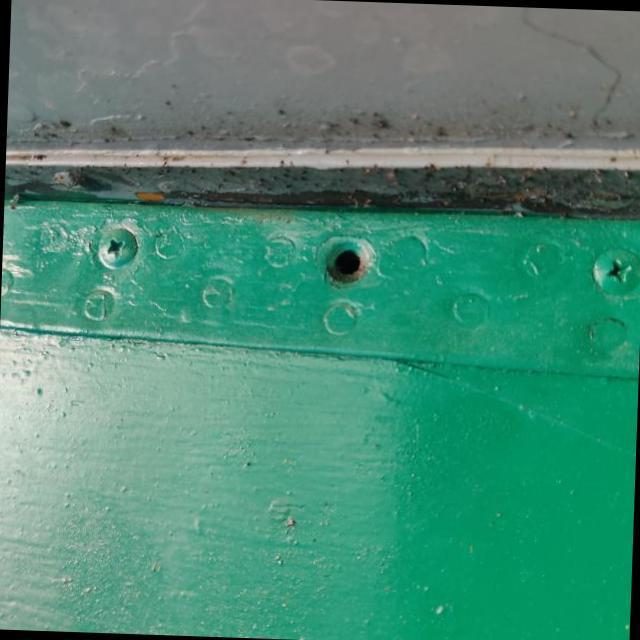Fastener Damage: (288, 202, 397, 321)
